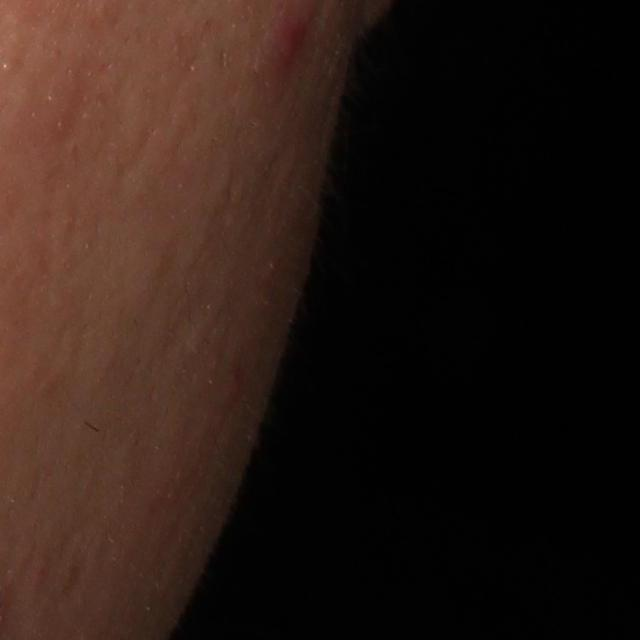papule: (270, 11, 308, 61)
